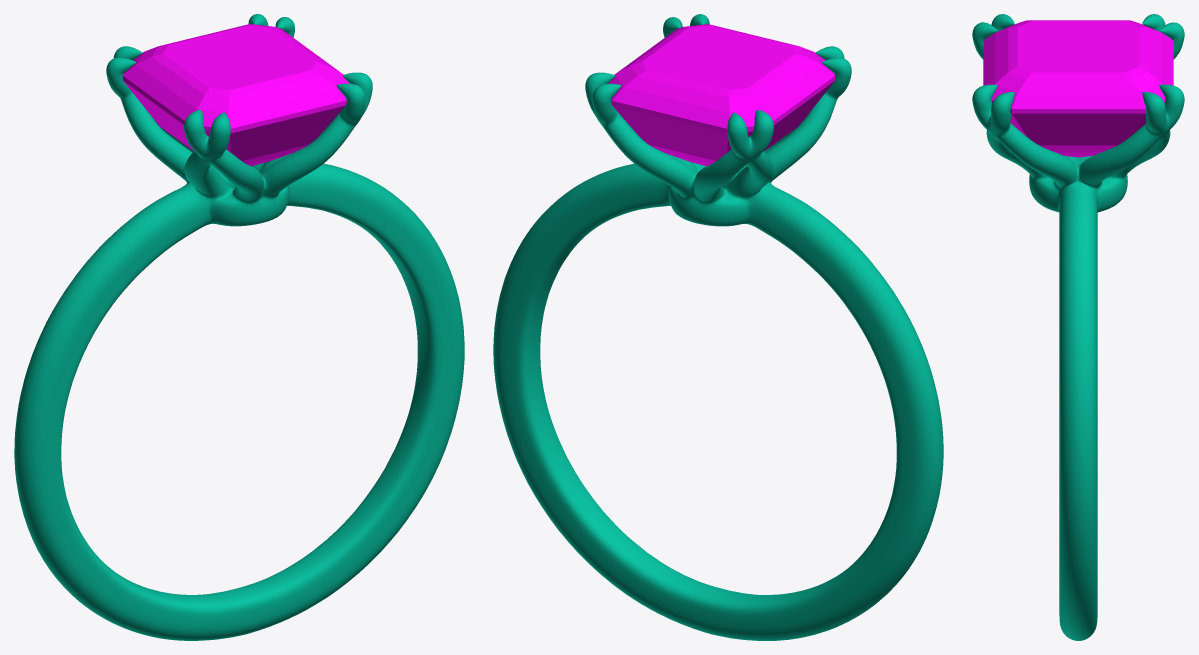
Rendered from BE1389_AS_200ct_RENDER.glb.
The picture shows the model from 3 angles, left to right: view 1: azimuth 30°, elevation 25°; view 2: azimuth 150°, elevation 25°; view 3: azimuth 270°, elevation 25°; orthographic projection.
Visible parts, largest first — view 1: Metal 01, CS_Diamond_Asscher; view 2: Metal 01, CS_Diamond_Asscher; view 3: Metal 01, CS_Diamond_Asscher.
Part boxes in pixels (x1,y1,x2,y2): Metal 01: (14, 14, 464, 640); CS_Diamond_Asscher: (122, 24, 349, 166); Metal 01: (493, 14, 943, 640); CS_Diamond_Asscher: (608, 24, 835, 166); Metal 01: (972, 14, 1184, 640); CS_Diamond_Asscher: (983, 20, 1173, 157).
Size of the model in its own units: 20.05 by 24.78 by 8.36.
